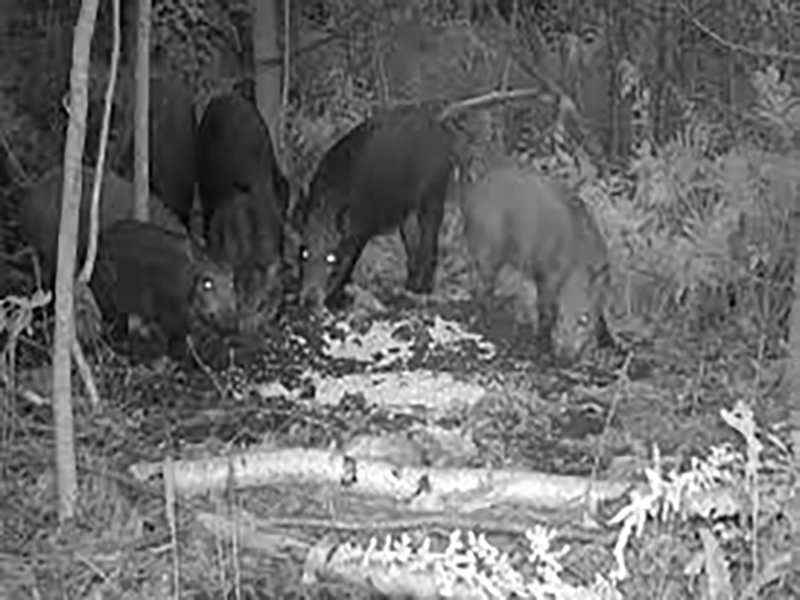cinghiale: (474, 157, 629, 376), (291, 106, 454, 309), (70, 217, 243, 361), (195, 76, 285, 277)
